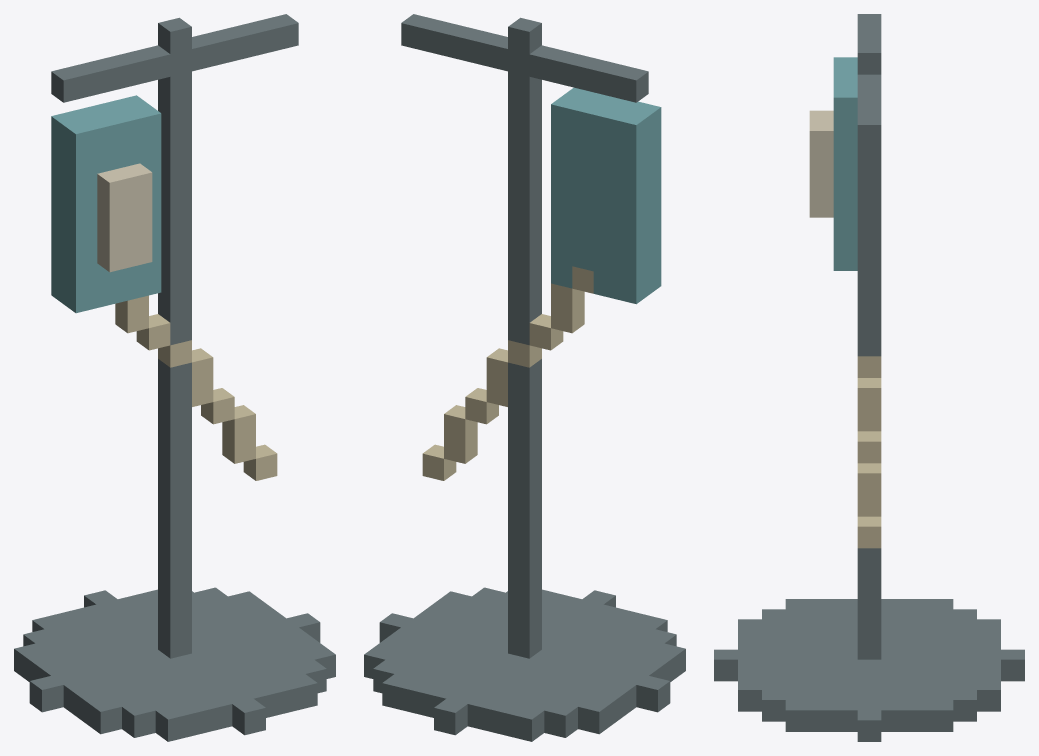
File: health-12.glb
3 views of the same model, side by side, from view 1: azimuth 30°, elevation 25°; view 2: azimuth 150°, elevation 25°; view 3: azimuth 270°, elevation 25° (orthographic). The views are drawn at different scales.
Parts seen in each view (by area): view 1: IV stand; view 2: IV stand; view 3: IV stand.
Part boxes in pixels (x1,y1,x2,y2): IV stand: [14, 14, 335, 741]; IV stand: [364, 14, 685, 741]; IV stand: [714, 14, 1024, 741].
Bounding box in the file's own units: 1.04 × 2.32 × 1.04.
